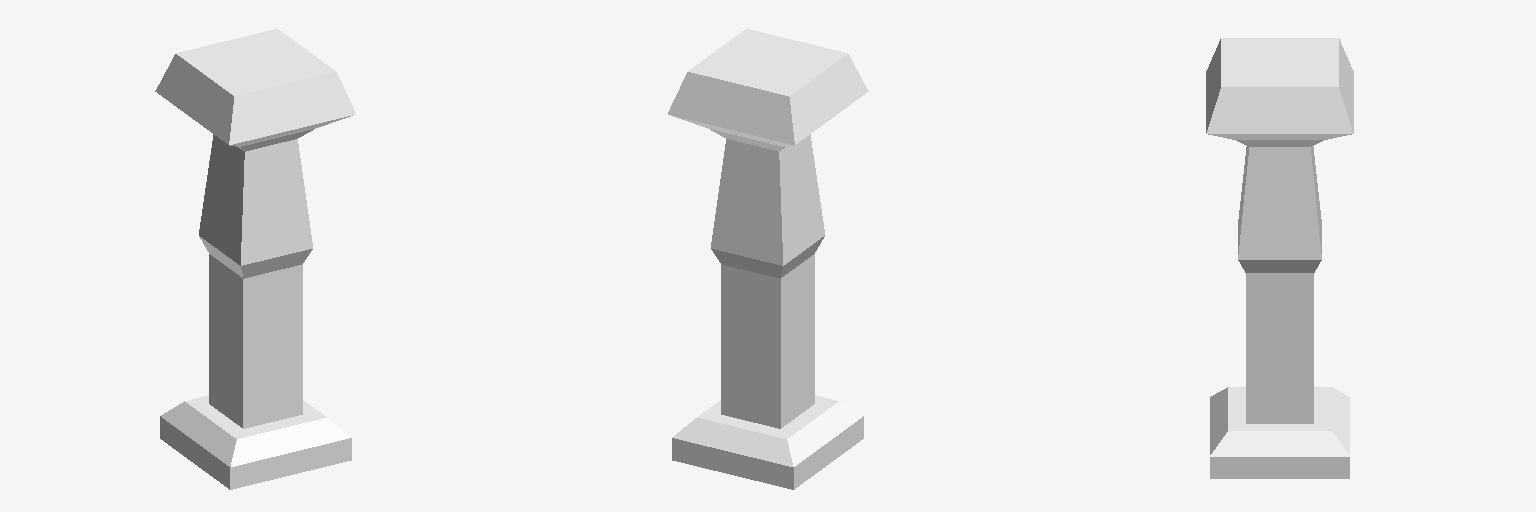
File: pilar_int.obj
3 views of the same model, side by side, from view 1: azimuth 30°, elevation 25°; view 2: azimuth 150°, elevation 25°; view 3: azimuth 270°, elevation 25° (orthographic).
Parts seen in each view (by area): view 1: Rock1_Pilar_Rock1_Pilar; view 2: Rock1_Pilar_Rock1_Pilar; view 3: Rock1_Pilar_Rock1_Pilar.
Boxes of the visible parts, x1=… form: Rock1_Pilar_Rock1_Pilar: x1=155, y1=29, x2=355, y2=489; Rock1_Pilar_Rock1_Pilar: x1=668, y1=29, x2=868, y2=489; Rock1_Pilar_Rock1_Pilar: x1=1206, y1=38, x2=1353, y2=478.
Bounding box in the file's own units: 2.8 × 8.09 × 2.8.